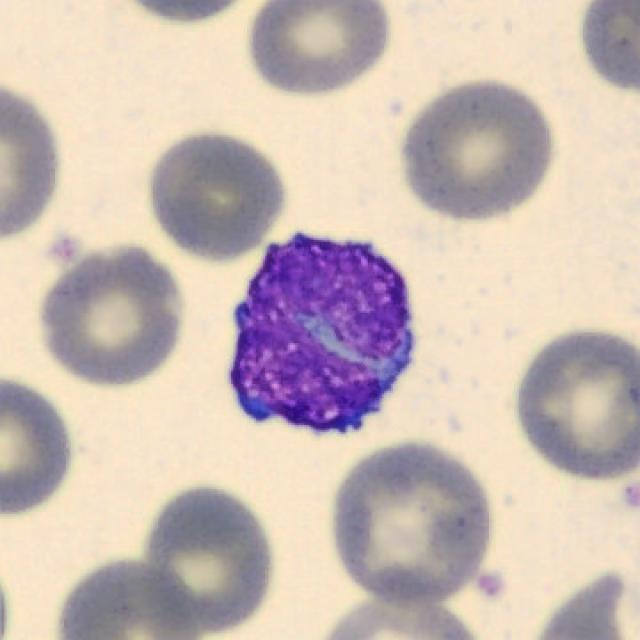Linfocito: (229, 233, 414, 434)
